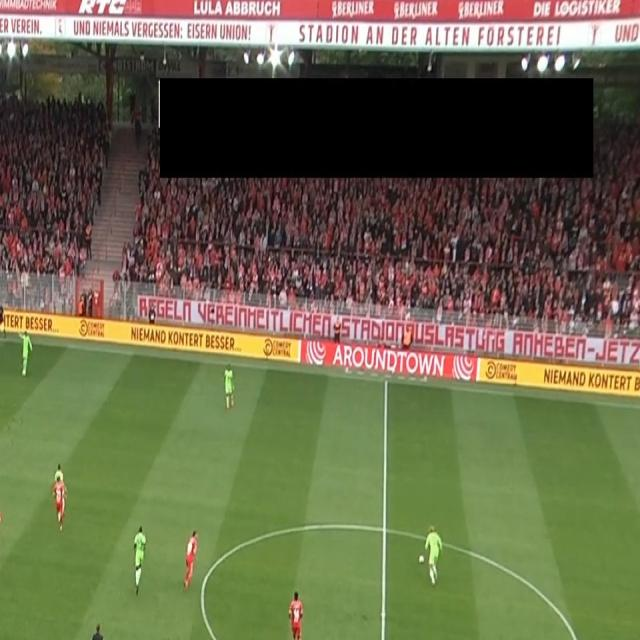ball: (418, 552, 425, 566)
